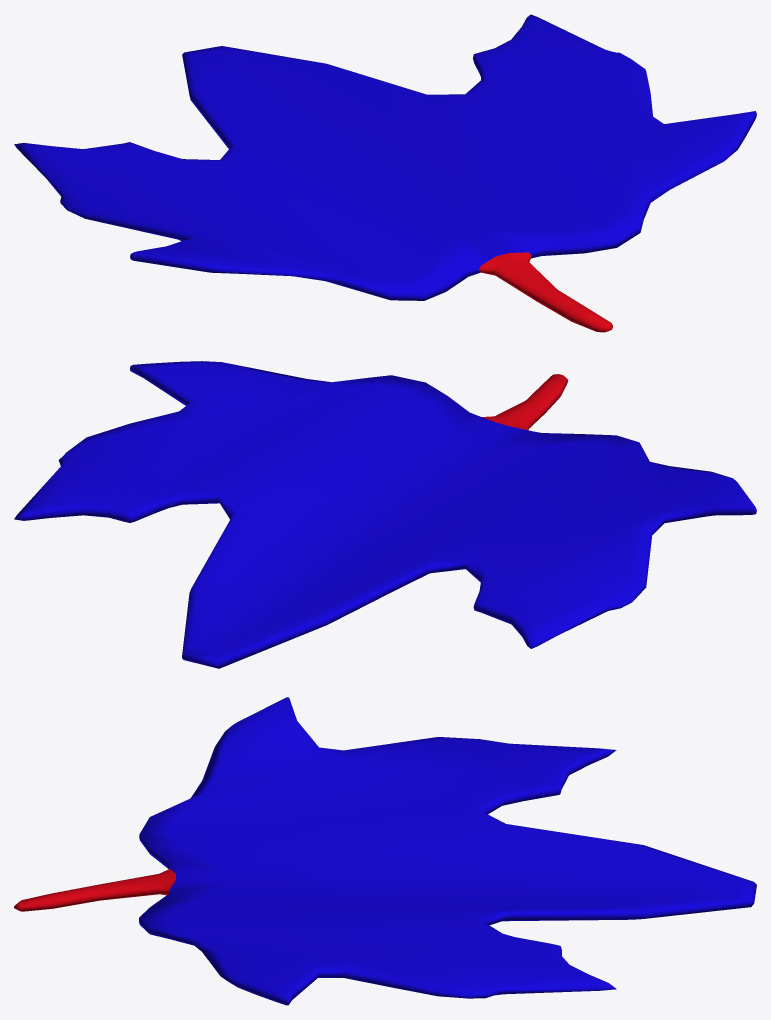
File: MapleLeaf.fbx
3 views of the same model, one above another, from view 1: azimuth 30°, elevation 25°; view 2: azimuth 150°, elevation 25°; view 3: azimuth 270°, elevation 25° (orthographic). The views are drawn at different scales.
Parts seen in each view (by area): view 1: Plane; view 2: Plane; view 3: Plane.
Boxes of the visible parts, x1,y1,x2,y2 form: Plane: (14,14,756,332); Plane: (14,361,756,668); Plane: (14,697,756,1005).
Size of the model in its own units: 61.95 by 5.59 by 66.15.
